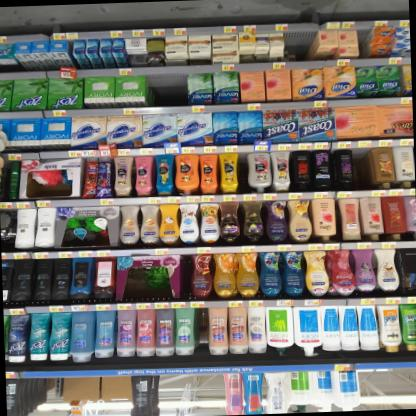empty_space: (157, 374, 223, 416), (362, 368, 416, 410), (147, 73, 189, 106), (196, 309, 214, 357), (284, 30, 309, 58), (351, 152, 370, 188), (354, 26, 369, 58)
